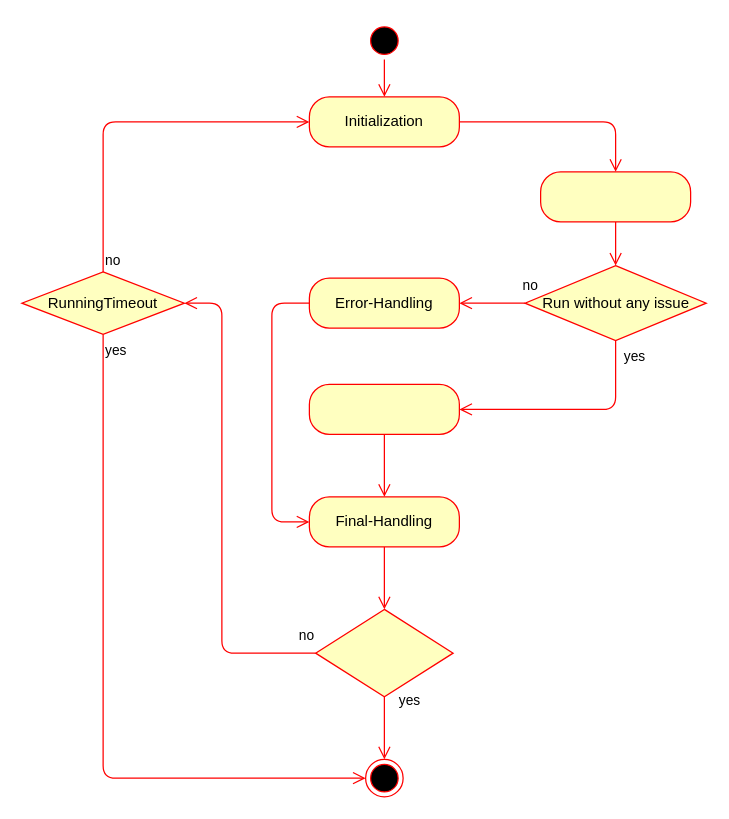
Some shapes in this 729 by 819 pixel diagram are drawn without their labels. The centre of each missing label's shape, as x and y in pixels:
Done-Handling: point 383,408
Run Target Function: point 615,196
Running successfully flag is True: point 383,652
